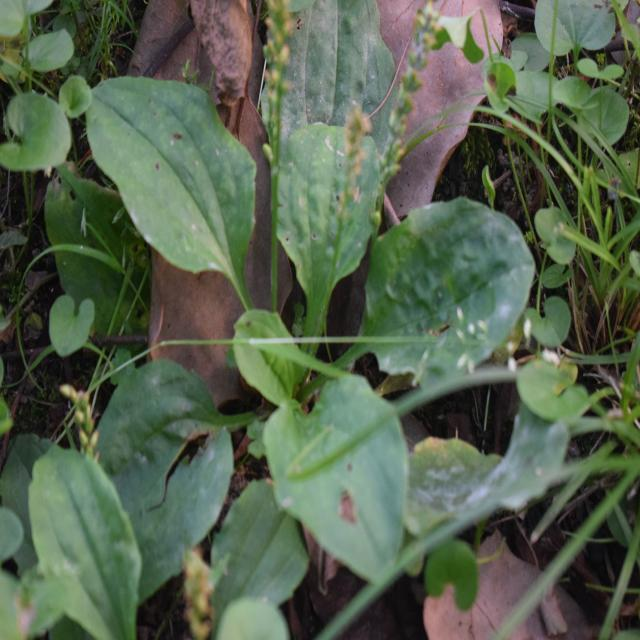plantain: (82, 46, 498, 528)
